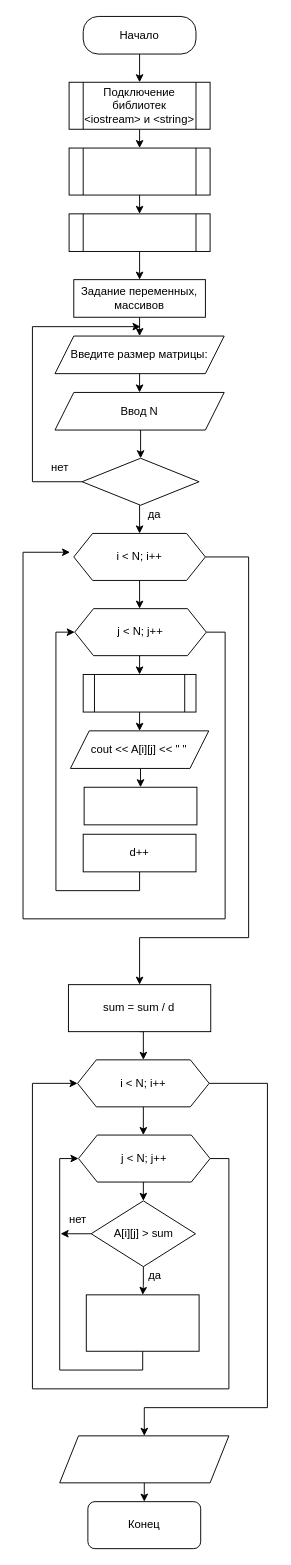
Image size: 291x1565. Some labels were removed from this diagram. Here are the shapes that lost their labels. From the top down, the box of each, then its label:
(68, 147, 210, 195): setlocale(LC_CTYPE, "Russian")
(68, 213, 210, 251): system("color 5F");
(81, 457, 199, 505): N < M
(82, 674, 196, 712): A[i][j] = rand() % 100
(83, 786, 197, 825): sum = sum + A[i][j]
(85, 1294, 199, 1351): K++
(59, 1435, 229, 1483): Вывод преобразованной строки
